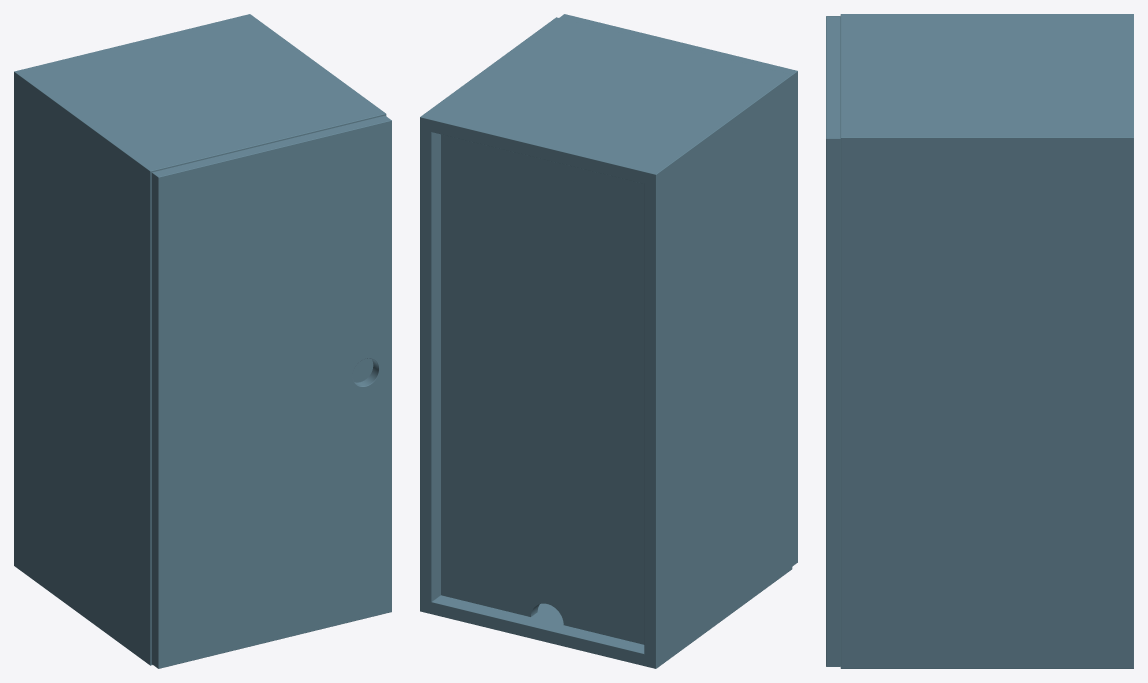
File: MOD-1X2-D-B-DER-AP-AC.glb
3 views of the same model, side by side, from view 1: azimuth 30°, elevation 25°; view 2: azimuth 150°, elevation 25°; view 3: azimuth 270°, elevation 25° (orthographic). The views are drawn at different scales.
Bounding box in the file's own units: 360 × 720 × 378.
